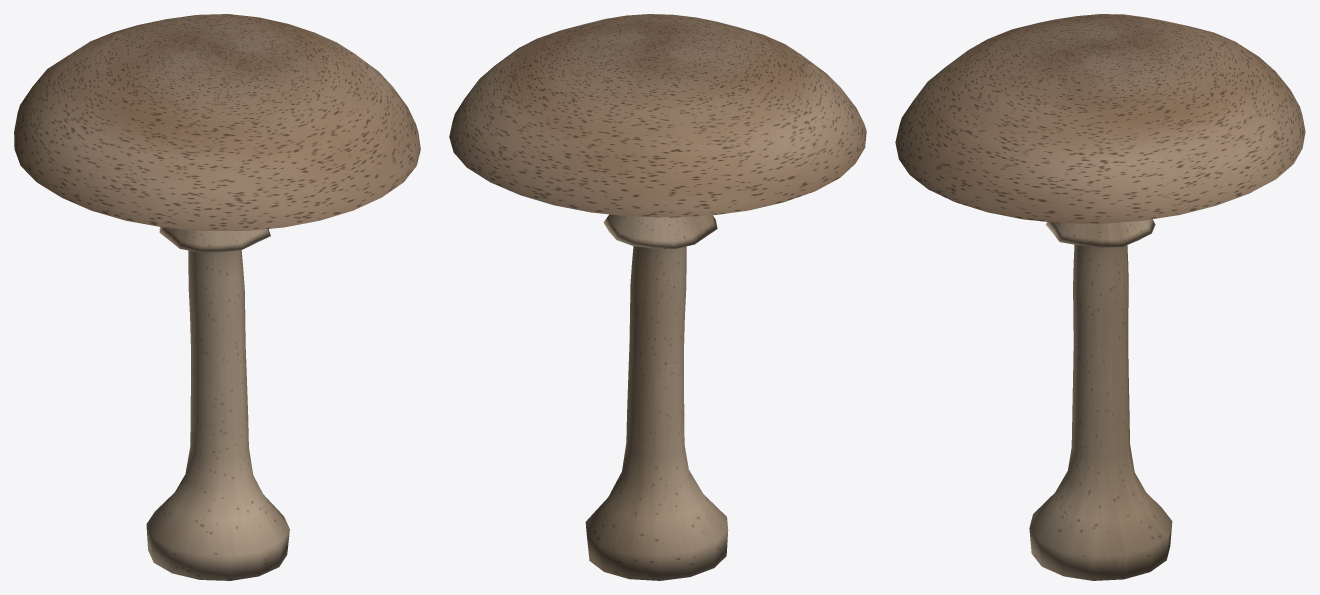
File: mm6_deco_mushrm01.glb
The picture shows the model from 3 angles, left to right: view 1: azimuth 30°, elevation 25°; view 2: azimuth 150°, elevation 25°; view 3: azimuth 270°, elevation 25°; orthographic projection.
Visible parts, largest first — view 1: Mushrm01; view 2: Mushrm01; view 3: Mushrm01.
Boxes of the visible parts, left/top/right/bottom form: Mushrm01: left=14, top=14, right=420, bottom=580; Mushrm01: left=449, top=14, right=866, bottom=580; Mushrm01: left=895, top=14, right=1305, bottom=580.
Bounding box in the file's own units: 0.9223 × 1.25 × 0.9154.
Materials: 3 (3 with a texture image).
